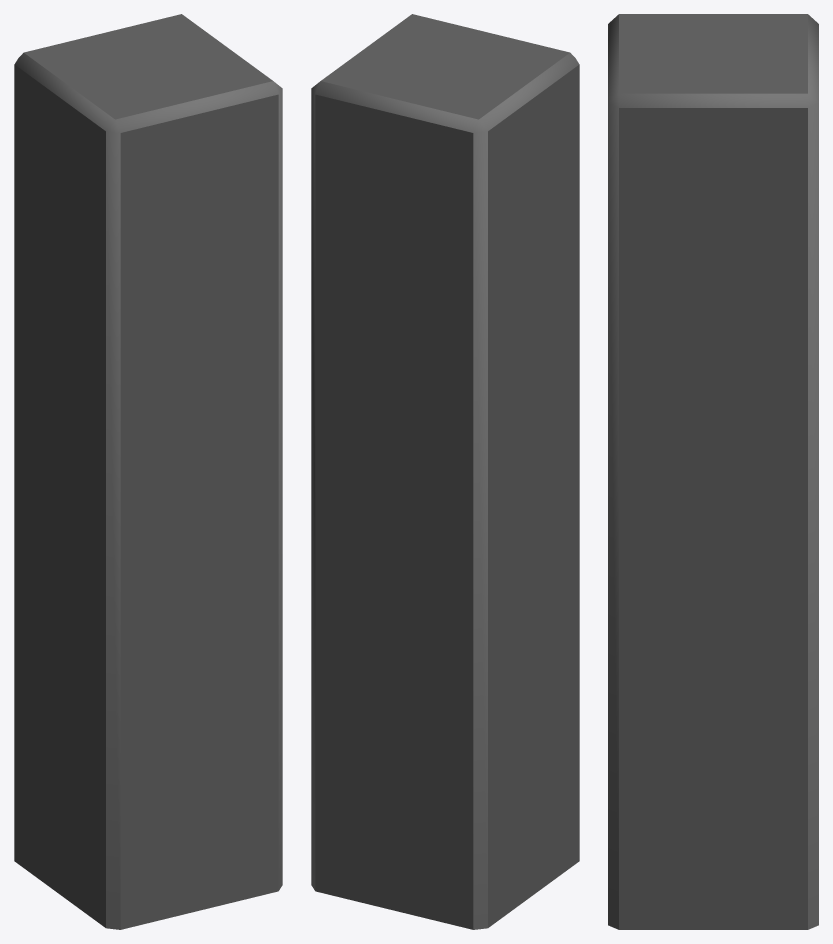
Rendered from Pilar_B_1.fbx.
3 renders of one model, left to right at view 1: azimuth 30°, elevation 25°; view 2: azimuth 150°, elevation 25°; view 3: azimuth 270°, elevation 25°, orthographic. The views are drawn at different scales.
Parts seen in each view (by area): view 1: Pilar_B_1; view 2: Pilar_B_1; view 3: Pilar_B_1.
Part boxes in pixels (bbox=[...]): Pilar_B_1: bbox=[14, 14, 282, 929]; Pilar_B_1: bbox=[311, 14, 579, 929]; Pilar_B_1: bbox=[608, 14, 818, 929].
Size of the model in its own units: 54.96 by 240 by 55.1.
